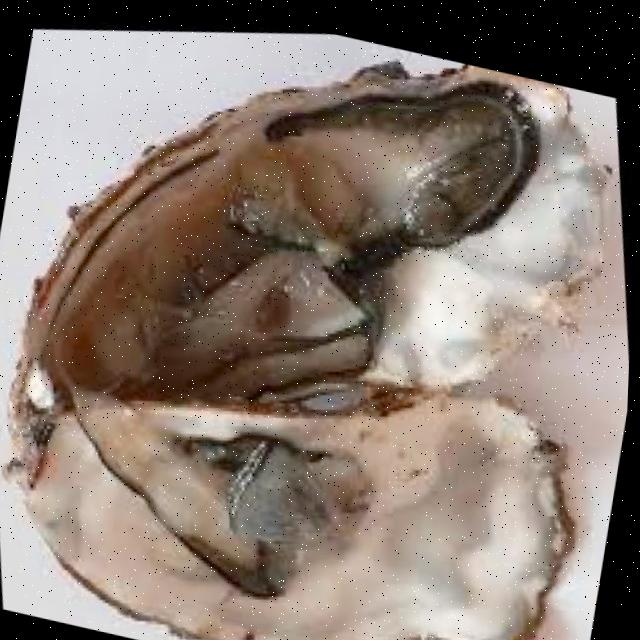Oyster-Open: (27, 65, 607, 402), (28, 390, 573, 640)
